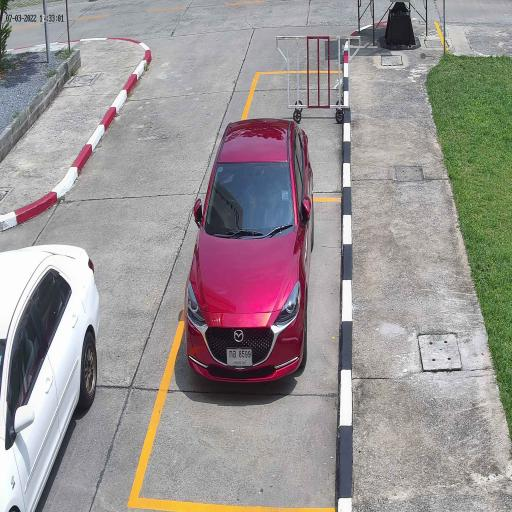car: (185, 116, 312, 381), (0, 246, 100, 511)
